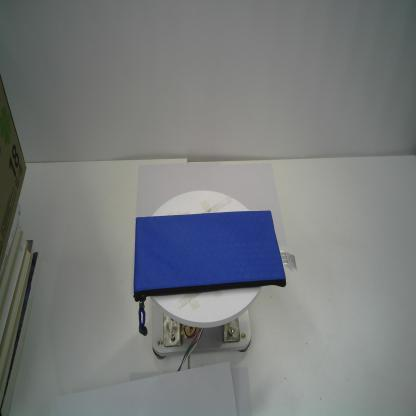Stationery: (133, 210, 287, 340)
